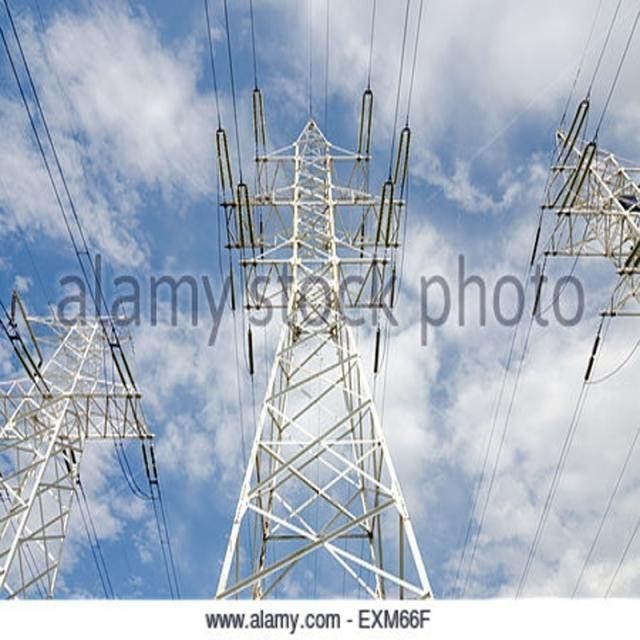non-critical vegetation: (180, 65, 448, 596), (2, 280, 165, 594), (520, 106, 635, 335)
